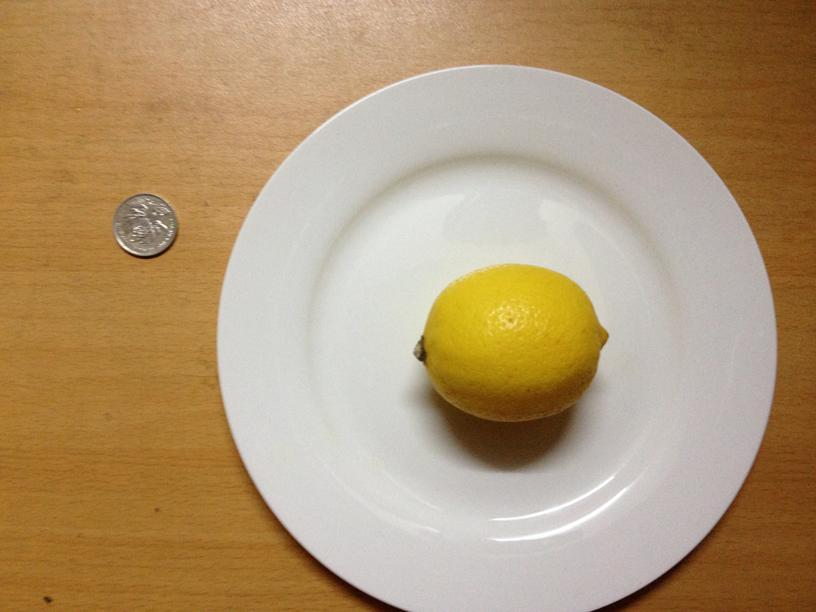coin: (110, 190, 177, 257)
lemon: (419, 264, 603, 424)
